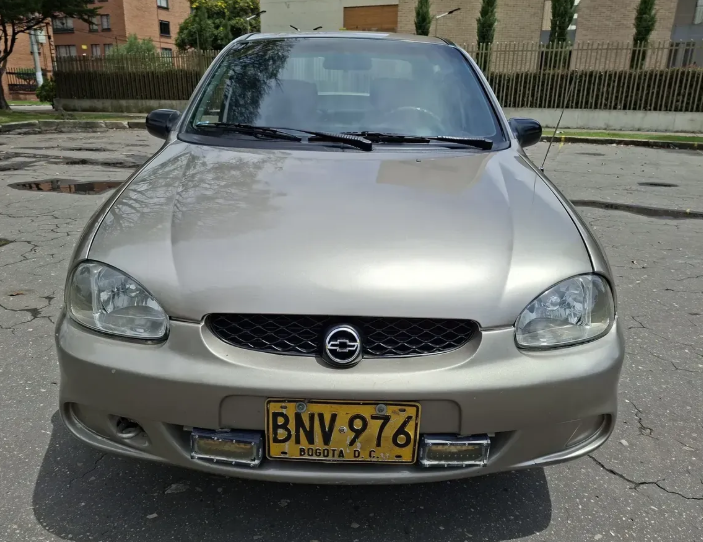placa: (264, 399, 420, 463)
